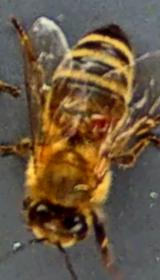varroa_mite: (85, 108, 108, 136)
